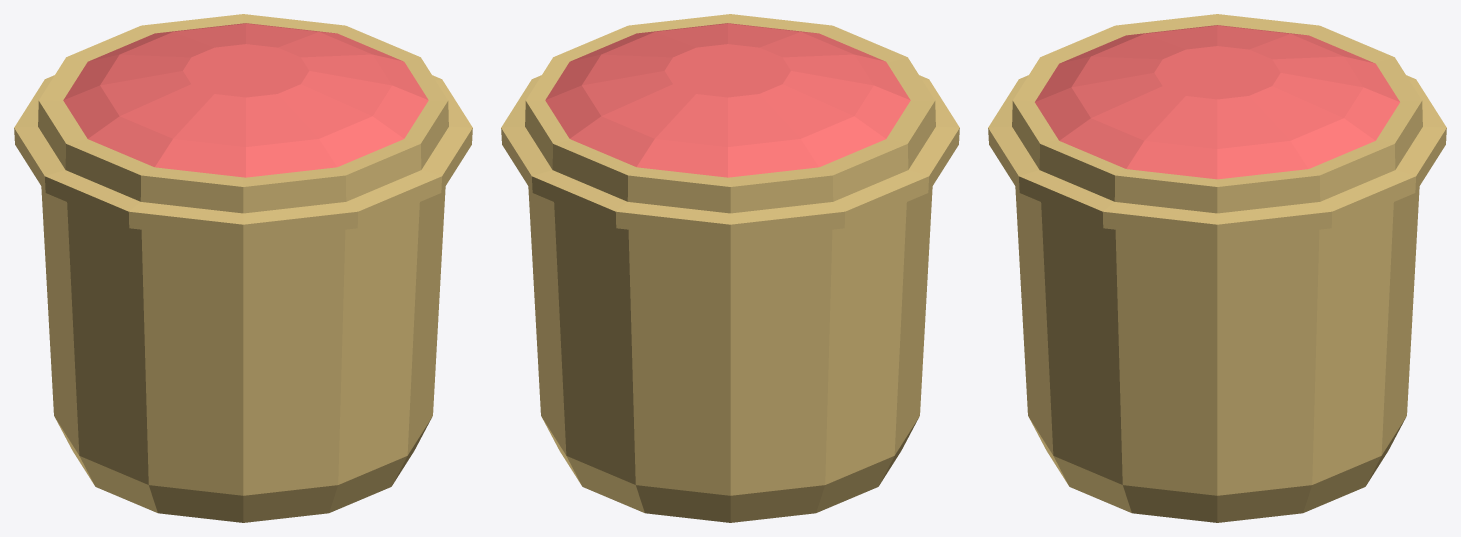
Rendered from Basket.fbx.
3 renders of one model, left to right at view 1: azimuth 30°, elevation 25°; view 2: azimuth 150°, elevation 25°; view 3: azimuth 270°, elevation 25°, orthographic.
Visible parts, largest first — view 1: Basket; view 2: Basket; view 3: Basket.
Part boxes in pixels (x1,y1,x2,y2): Basket: (14,14,472,522); Basket: (501,14,959,522); Basket: (988,14,1446,522).
Bounding box in the file's own units: 147 × 140 × 147.
